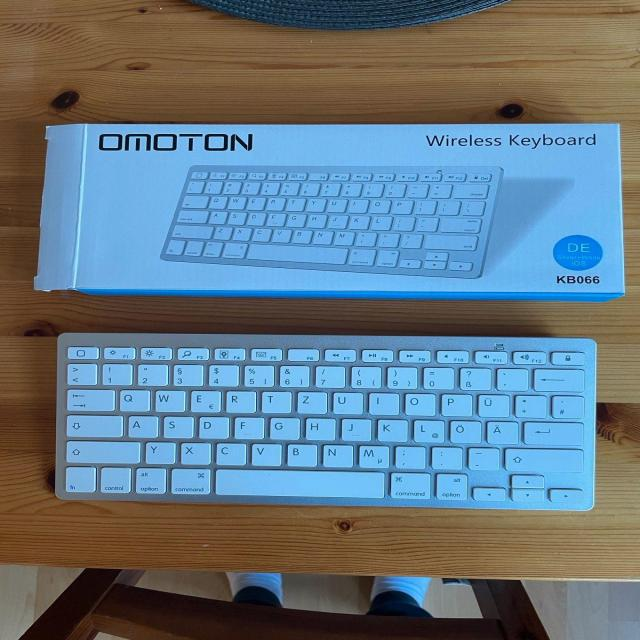0: (420, 366, 453, 389)
1: (100, 362, 131, 385)
2: (135, 362, 167, 385)
3: (171, 363, 202, 386)
4: (207, 363, 238, 386)
5: (241, 363, 273, 386)
6: (277, 364, 308, 387)
7: (313, 364, 344, 387)
8: (349, 365, 381, 388)
9: (384, 365, 417, 388)
a: (126, 414, 157, 437)
accent: (494, 366, 526, 390)
ae: (484, 419, 517, 443)
alt-left: (132, 466, 166, 494)
altgr-right: (435, 473, 468, 502)
b: (284, 442, 316, 465)
c: (213, 440, 245, 464)
comma: (392, 444, 424, 468)
d: (196, 414, 228, 438)
del: (531, 367, 583, 391)
e: (188, 388, 219, 411)
enter: (521, 419, 582, 444)
f: (232, 415, 263, 438)
g: (267, 416, 298, 439)
h: (302, 416, 334, 439)
hash: (550, 393, 583, 417)
i: (367, 391, 398, 414)
j: (339, 416, 370, 440)
k: (375, 417, 406, 440)
keyboard: (50, 329, 597, 511), (156, 163, 509, 282)
l: (411, 418, 443, 442)
less: (64, 361, 95, 384)
m: (355, 443, 388, 467)
minus: (465, 446, 498, 469)
n: (320, 442, 352, 466)
o: (401, 391, 434, 415)
oe: (447, 419, 479, 443)
p: (438, 392, 470, 415)
plus: (512, 393, 546, 416)
point: (429, 445, 461, 468)
q: (117, 387, 149, 410)
r: (223, 389, 254, 412)
s: (161, 414, 192, 437)
shift-left: (63, 438, 140, 462)
shift-lock: (64, 412, 122, 436)
shift-right: (503, 446, 582, 471)
space: (213, 467, 384, 496)
ss: (457, 366, 490, 389)
strg-left: (98, 465, 131, 493)
t: (259, 389, 290, 412)
tab: (64, 387, 113, 410)
u: (330, 390, 361, 413)
ue: (475, 392, 508, 416)
v: (249, 441, 281, 464)
w: (152, 387, 183, 411)
x: (178, 440, 210, 463)
y: (143, 440, 174, 463)
z: (294, 389, 326, 413)
